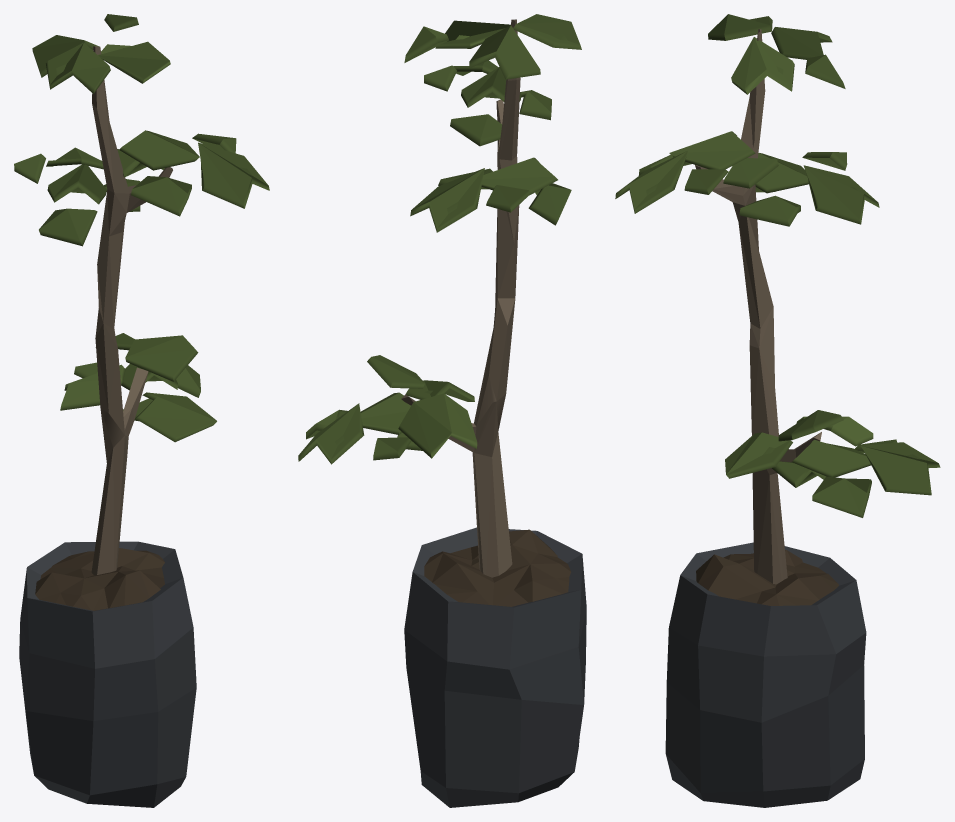
Rendered from SM_Prop_Plant_02.fbx.
The picture shows the model from 3 angles, left to right: view 1: azimuth 30°, elevation 25°; view 2: azimuth 150°, elevation 25°; view 3: azimuth 270°, elevation 25°; orthographic projection. The views are drawn at different scales.
Visible parts, largest first — view 1: SM_Prop_Plant_02; view 2: SM_Prop_Plant_02; view 3: SM_Prop_Plant_02.
Boxes of the visible parts, x1,y1,x2,y2 form: SM_Prop_Plant_02: (14, 14, 269, 807); SM_Prop_Plant_02: (298, 14, 586, 807); SM_Prop_Plant_02: (615, 14, 940, 807).
Bounding box in the file's own units: 52.9 × 167 × 66.17.
